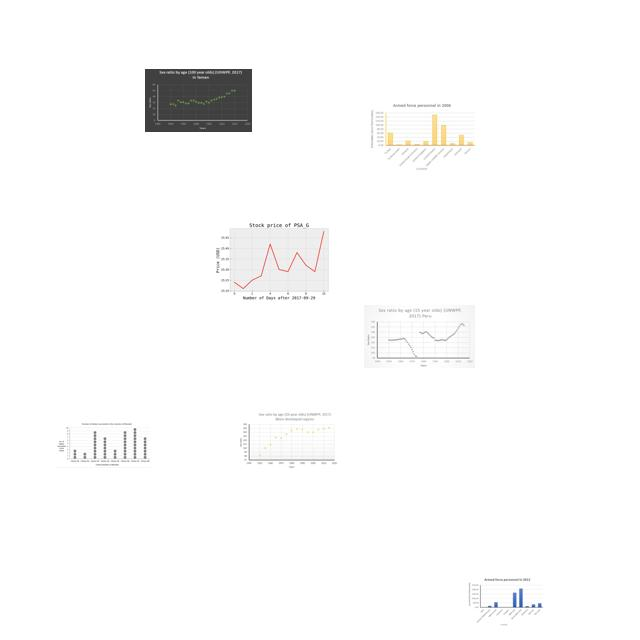Graph: (214, 212, 341, 307), (369, 102, 477, 172), (364, 305, 475, 368), (145, 69, 252, 132), (238, 411, 338, 470), (55, 422, 151, 468), (467, 577, 544, 627)
